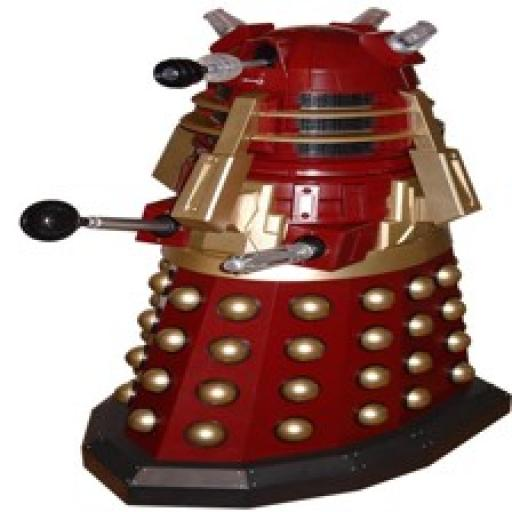dalek: (19, 4, 512, 508)
